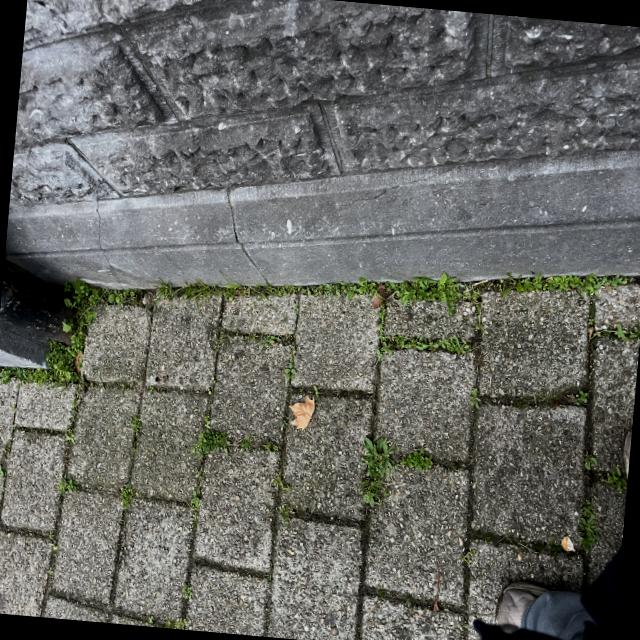pavement: (116, 118, 247, 259), (15, 5, 114, 156), (0, 284, 81, 461), (0, 523, 102, 613)
weedling: (255, 0, 378, 604)
